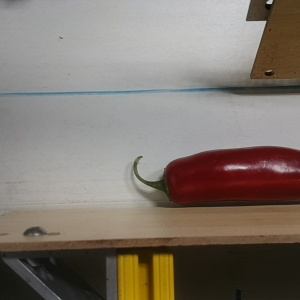Cut Point: (154, 158, 185, 206)
